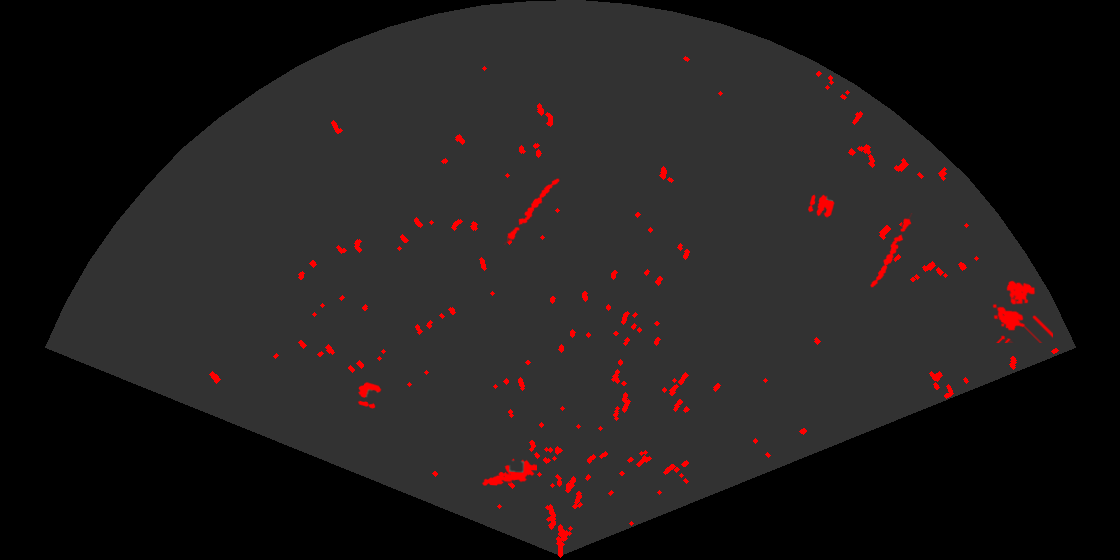ball: (356, 380, 383, 410), (806, 193, 836, 220)
cage: (991, 279, 1053, 343)
chain: (502, 177, 561, 245), (869, 213, 914, 289)
frogman: (481, 457, 537, 487)
